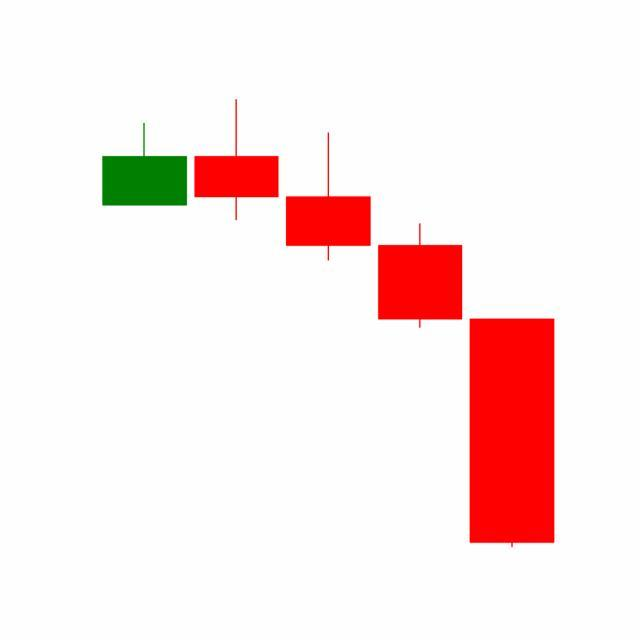Marubozu: (466, 318, 559, 552)
